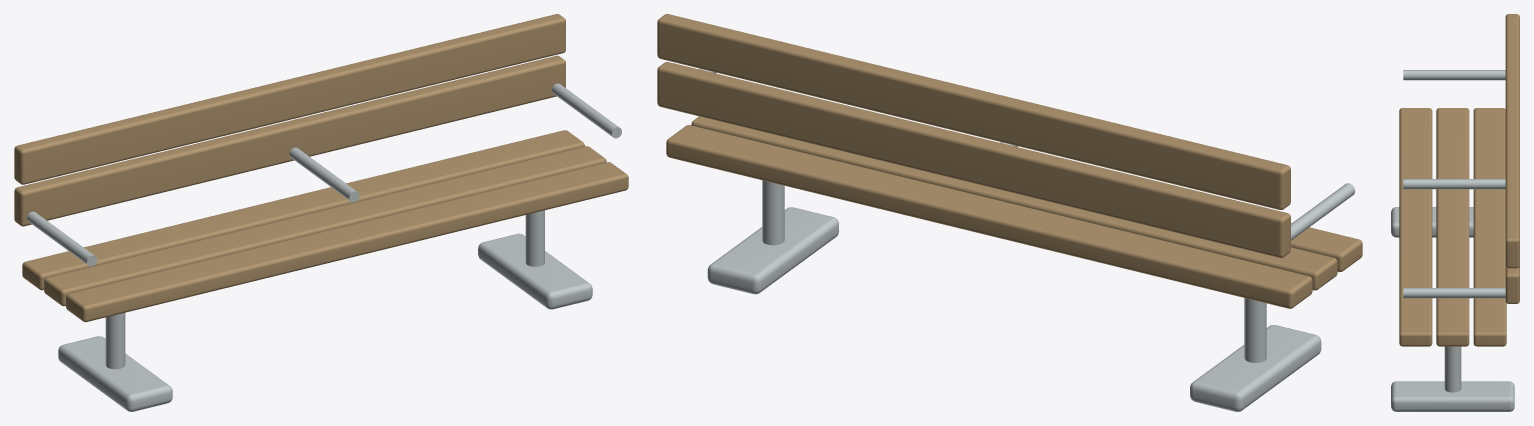
Rendered from terminal_waiting_bench.glb.
The picture shows the model from 3 angles, left to right: view 1: azimuth 30°, elevation 25°; view 2: azimuth 150°, elevation 25°; view 3: azimuth 270°, elevation 25°; orthographic projection. The views are drawn at different scales.
Visible parts, largest first — view 1: terminal_waiting_bench__Pallet timber, terminal_waiting_bench__Fixed_Stainless; view 2: terminal_waiting_bench__Pallet timber, terminal_waiting_bench__Fixed_Stainless; view 3: terminal_waiting_bench__Pallet timber, terminal_waiting_bench__Fixed_Stainless.
Boxes of the visible parts, x1,y1,x2,y2 form: terminal_waiting_bench__Pallet timber: (14, 14, 628, 322); terminal_waiting_bench__Fixed_Stainless: (27, 83, 621, 411); terminal_waiting_bench__Pallet timber: (657, 14, 1362, 308); terminal_waiting_bench__Fixed_Stainless: (699, 68, 1355, 411); terminal_waiting_bench__Pallet timber: (1399, 14, 1519, 346); terminal_waiting_bench__Fixed_Stainless: (1391, 70, 1514, 411).
Size of the model in its own units: 2.6 by 1.02 by 0.625.
